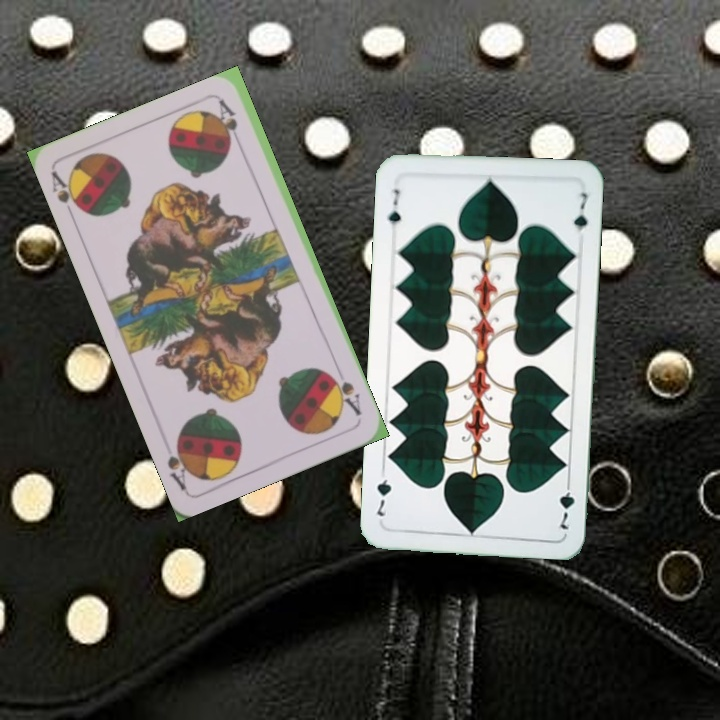G7: (553, 474, 577, 533), (383, 185, 404, 235)
SA: (47, 167, 88, 223), (325, 368, 364, 419)
